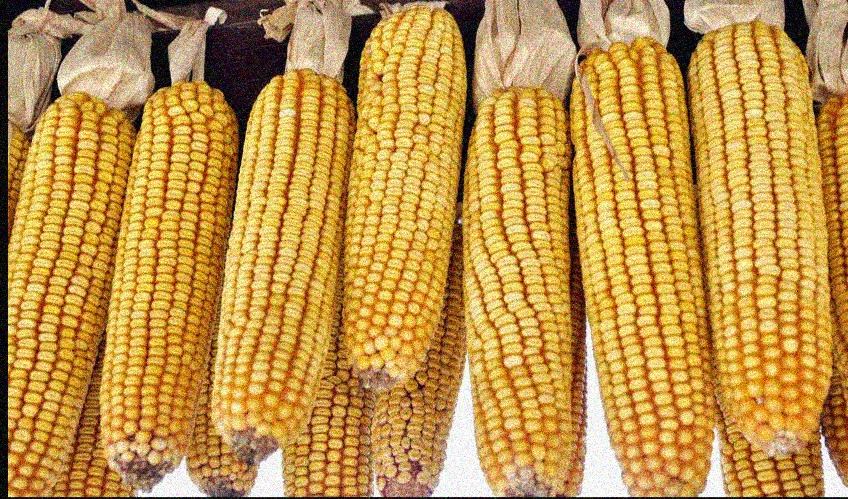corn: (569, 42, 713, 490), (686, 21, 830, 453), (345, 5, 465, 390), (8, 93, 124, 481), (465, 92, 573, 497), (227, 74, 330, 456), (114, 90, 202, 476)
